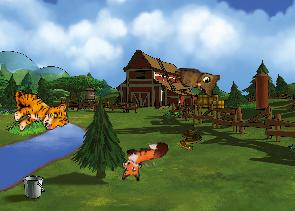fox: (115, 139, 173, 184)
owl: (173, 68, 220, 97)
tiger: (9, 83, 69, 136)
